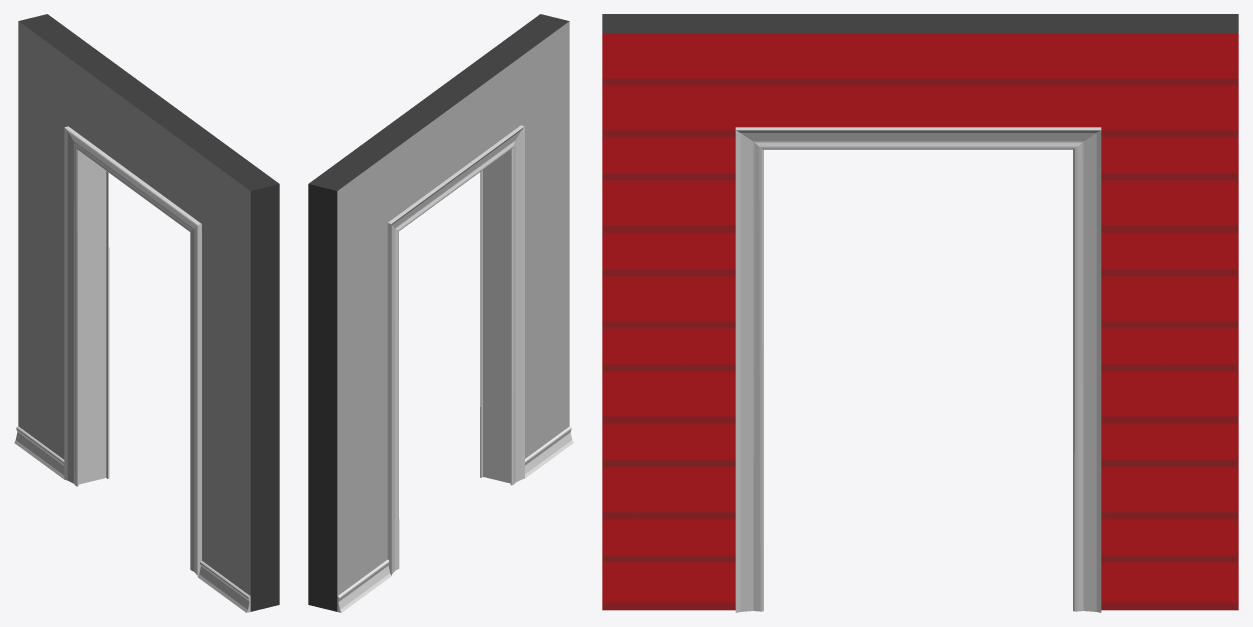
The model's file is OuterDoorFrame.fbx.
3 renders of one model, left to right at view 1: azimuth 30°, elevation 25°; view 2: azimuth 150°, elevation 25°; view 3: azimuth 270°, elevation 25°, orthographic. The views are drawn at different scales.
Parts seen in each view (by area): view 1: OuterDoorFrame; view 2: OuterDoorFrame; view 3: OuterDoorFrame.
Boxes of the visible parts, <box> form: OuterDoorFrame: <box>14,14,279,612</box>; OuterDoorFrame: <box>308,14,573,612</box>; OuterDoorFrame: <box>602,14,1238,612</box>.
Size of the model in its own units: 0.3715 by 4 by 4.
